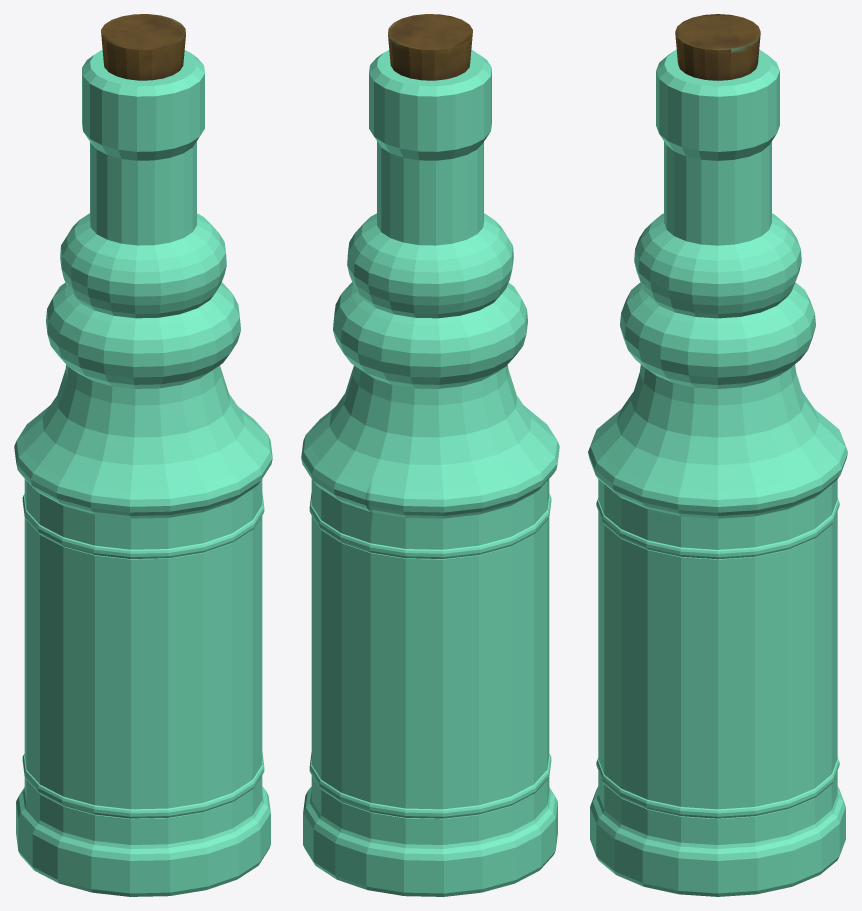
The picture shows the model from 3 angles, left to right: view 1: azimuth 30°, elevation 25°; view 2: azimuth 150°, elevation 25°; view 3: azimuth 270°, elevation 25°; orthographic projection.
Size of the model in its own units: 0.0724 by 0.25 by 0.0724.
Materials: 1 (1 with a texture image).
